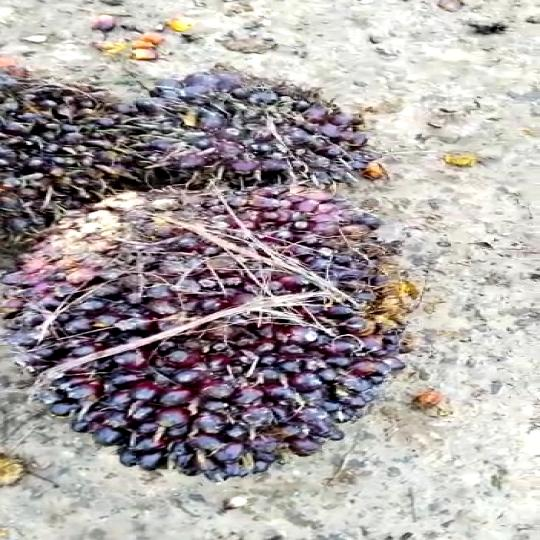kurang masak: (3, 205, 406, 481), (0, 66, 363, 186)
